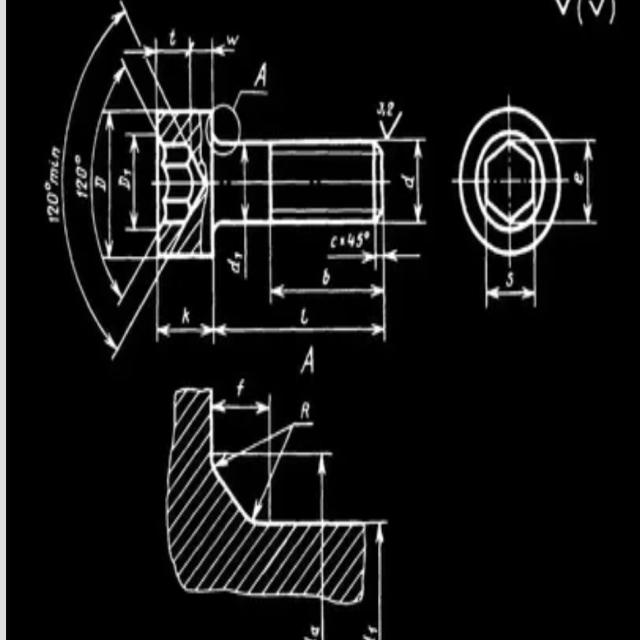marking_line: (217, 323, 382, 337), (272, 281, 382, 301), (319, 453, 329, 640), (376, 525, 387, 640), (130, 136, 140, 227), (412, 141, 423, 222), (584, 141, 594, 223), (215, 401, 269, 416), (158, 322, 211, 336), (240, 147, 249, 217), (486, 288, 535, 300), (326, 251, 374, 262), (385, 248, 420, 262), (124, 45, 154, 57), (215, 44, 237, 58)
numeric: (47, 191, 62, 206), (47, 206, 62, 217), (73, 179, 89, 189), (74, 168, 88, 179), (346, 232, 354, 249), (355, 231, 362, 248), (75, 190, 88, 199), (50, 215, 63, 224)
special_symbol: (379, 119, 399, 139), (585, 0, 608, 15), (554, 0, 573, 15), (363, 230, 373, 242), (46, 182, 51, 193)
